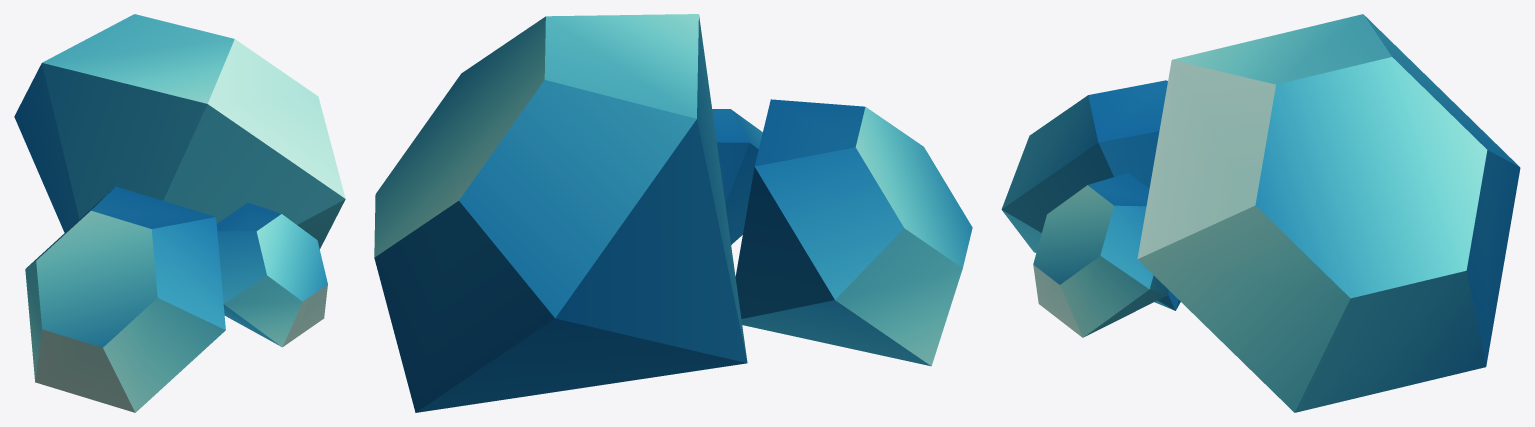
The model's file is Diamond_04.glb.
3 views of the same model, side by side, from view 1: azimuth 30°, elevation 25°; view 2: azimuth 150°, elevation 25°; view 3: azimuth 270°, elevation 25° (orthographic). The views are drawn at different scales.
Parts seen in each view (by area): view 1: Diamond_04; view 2: Diamond_04; view 3: Diamond_04.
Boxes of the visible parts, x1=… form: Diamond_04: x1=14, y1=14, x2=345, y2=412; Diamond_04: x1=374, y1=14, x2=972, y2=412; Diamond_04: x1=1001, y1=14, x2=1520, y2=412.
Size of the model in its own units: 0.4642 by 0.3061 by 0.5103.
Materials: 1 (1 with a texture image).
